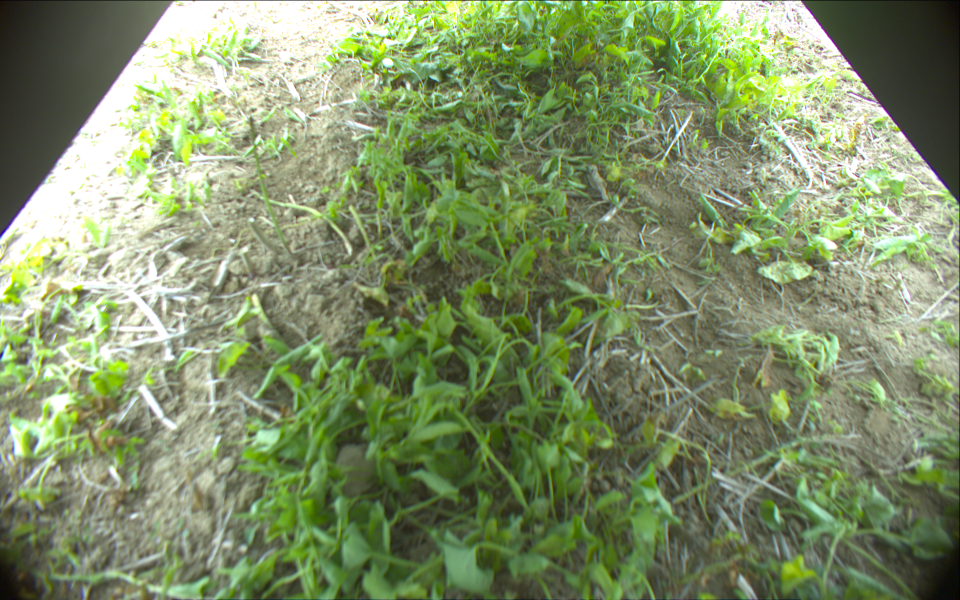aspa: (248, 115, 298, 258), (249, 187, 355, 253), (347, 207, 373, 256)
